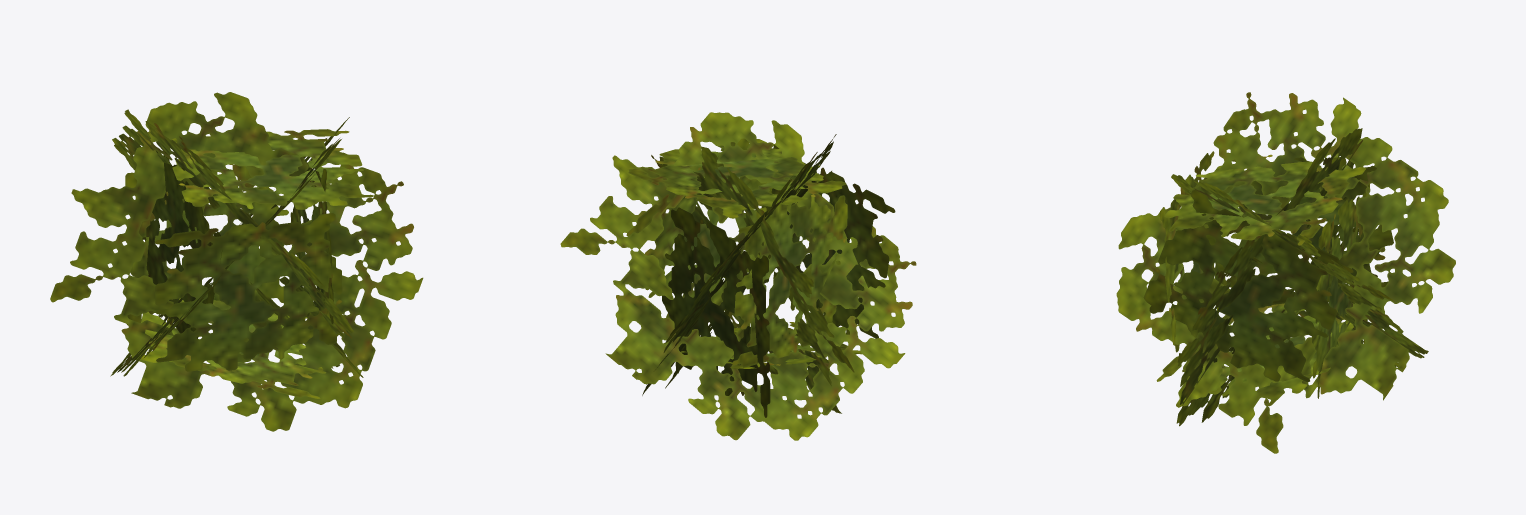
Rendered from beech_leaves_yellowish.obj.
3 renders of one model, left to right at view 1: azimuth 30°, elevation 25°; view 2: azimuth 150°, elevation 25°; view 3: azimuth 270°, elevation 25°, orthographic. The views are drawn at different scales.
Visible parts, largest first — view 1: east, south, top, west, north, bottom; view 2: west, north, east, south, top, bottom; view 3: south, east, top, west, north, bottom.
Part boxes in pixels (x1,y1,x2,y2): east: (50, 92, 423, 431); south: (112, 109, 363, 377); top: (172, 129, 373, 209); west: (110, 117, 349, 376); north: (125, 164, 288, 336); bottom: (140, 298, 326, 398); west: (560, 112, 916, 440); north: (662, 207, 770, 417); east: (626, 138, 854, 413); south: (642, 134, 895, 395); top: (628, 139, 846, 218); bottom: (663, 322, 865, 368); south: (1116, 92, 1455, 453); east: (1143, 128, 1374, 426); top: (1164, 152, 1365, 245); west: (1171, 157, 1428, 366); north: (1312, 184, 1369, 398); bottom: (1156, 303, 1353, 406).
Size of the model in its own units: 2.27 by 1.98 by 2.25.
